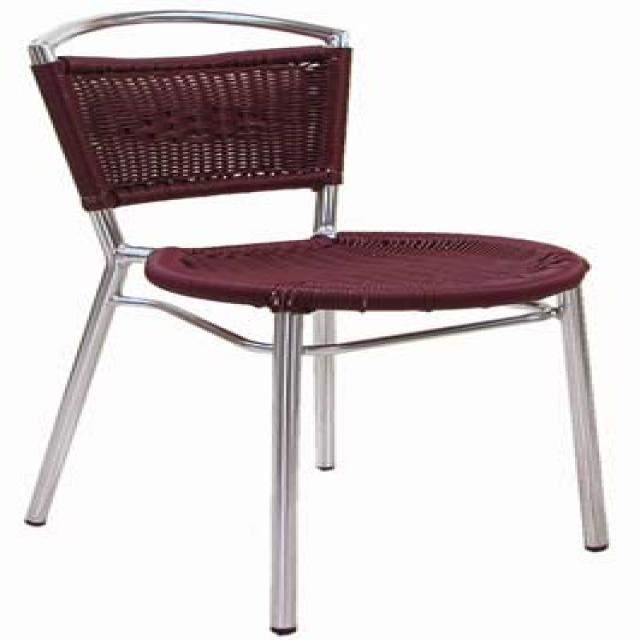chair: (19, 8, 611, 635)
